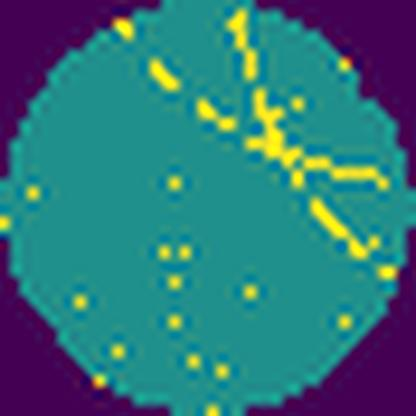Scratch: (114, 7, 395, 262)
